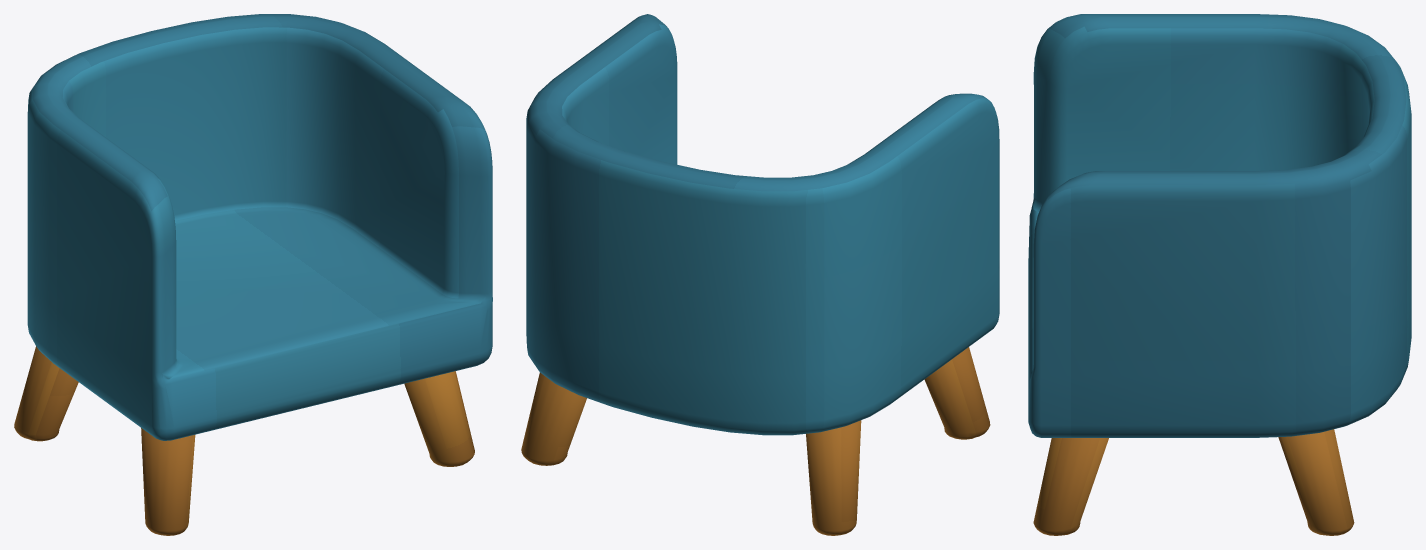
Rendered from LoungeChair_Blue.fbx.
3 renders of one model, left to right at view 1: azimuth 30°, elevation 25°; view 2: azimuth 150°, elevation 25°; view 3: azimuth 270°, elevation 25°, orthographic. The views are drawn at different scales.
Parts seen in each view (by area): view 1: loungeChair_.001; view 2: loungeChair_.001; view 3: loungeChair_.001.
Boxes of the visible parts, x1,y1,x2,y2 form: loungeChair_.001: (14, 14, 492, 535); loungeChair_.001: (521, 14, 999, 535); loungeChair_.001: (1028, 14, 1411, 535).
Size of the model in its own units: 83.22 by 81.02 by 77.12.
